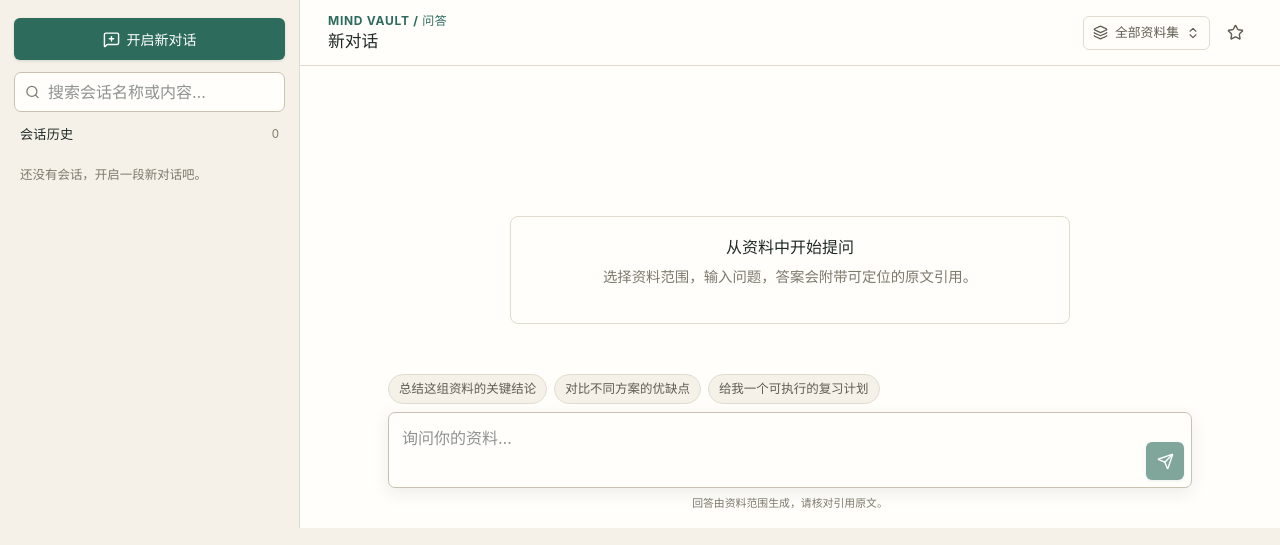
it: ChatPage › replaces the generic prompts with the follow-up questions of the last answer
Check: the button "总结这组资料的关键结论" is shown, box [388, 374, 547, 404]
Type "Kafka 用在什么场景？" into the text box named "输入问题" at (768, 450), box [396, 420, 1139, 480]
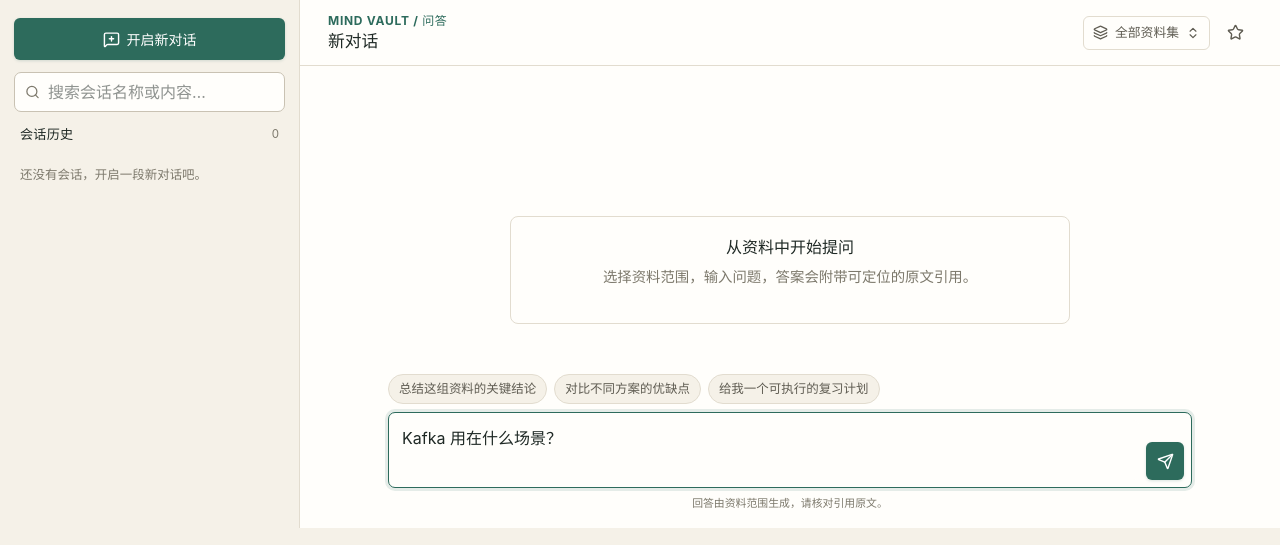
Click the button named "发送问题" at (1165, 461), box [1146, 442, 1184, 480]
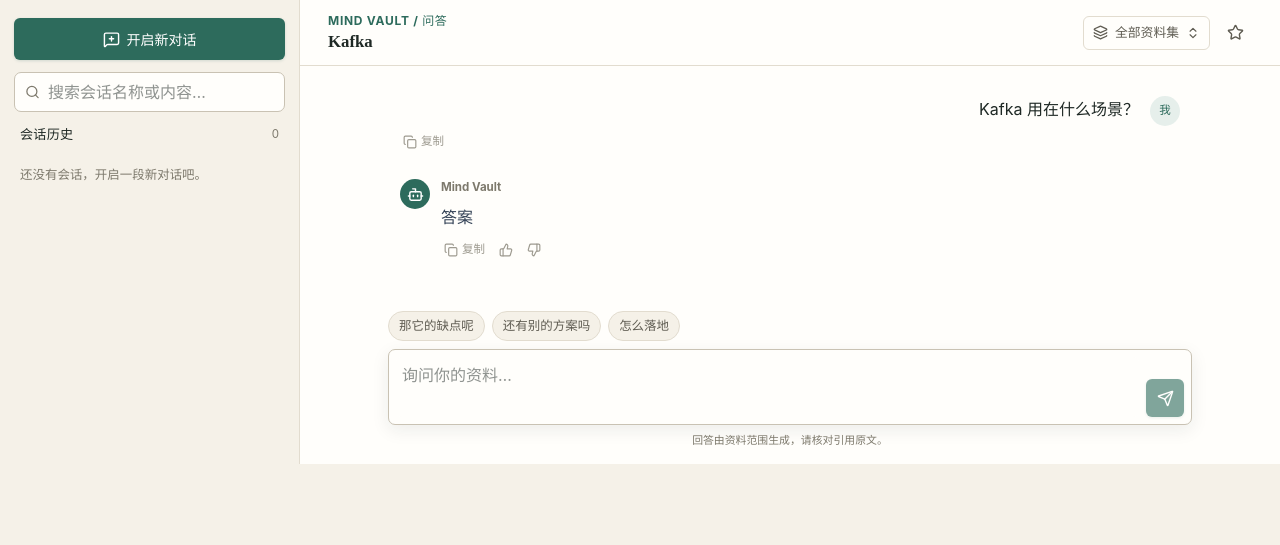
Check: the button "那它的缺点呢" is shown, box [388, 311, 485, 341]
Check: the button "怎么落地" is shown, box [608, 311, 680, 341]
Check: the button "总结这组资料的关键结论" is gone
